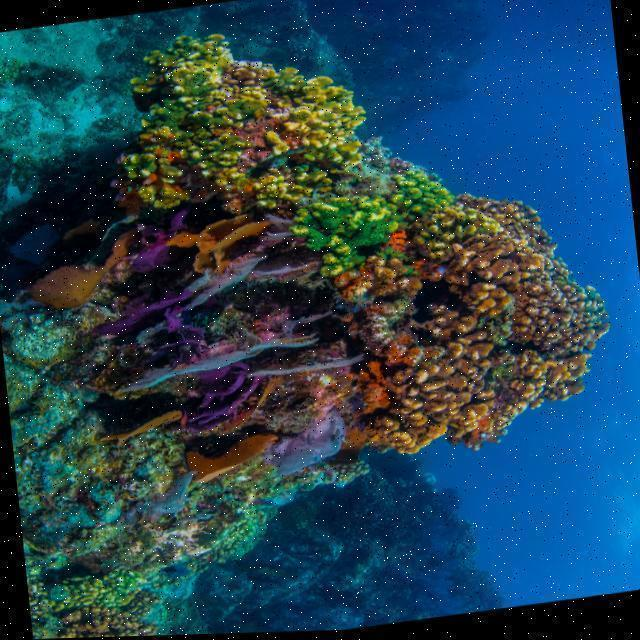Healthy Coral: (335, 186, 625, 477), (293, 163, 456, 279), (249, 57, 386, 185), (115, 116, 261, 225), (117, 29, 240, 127)
